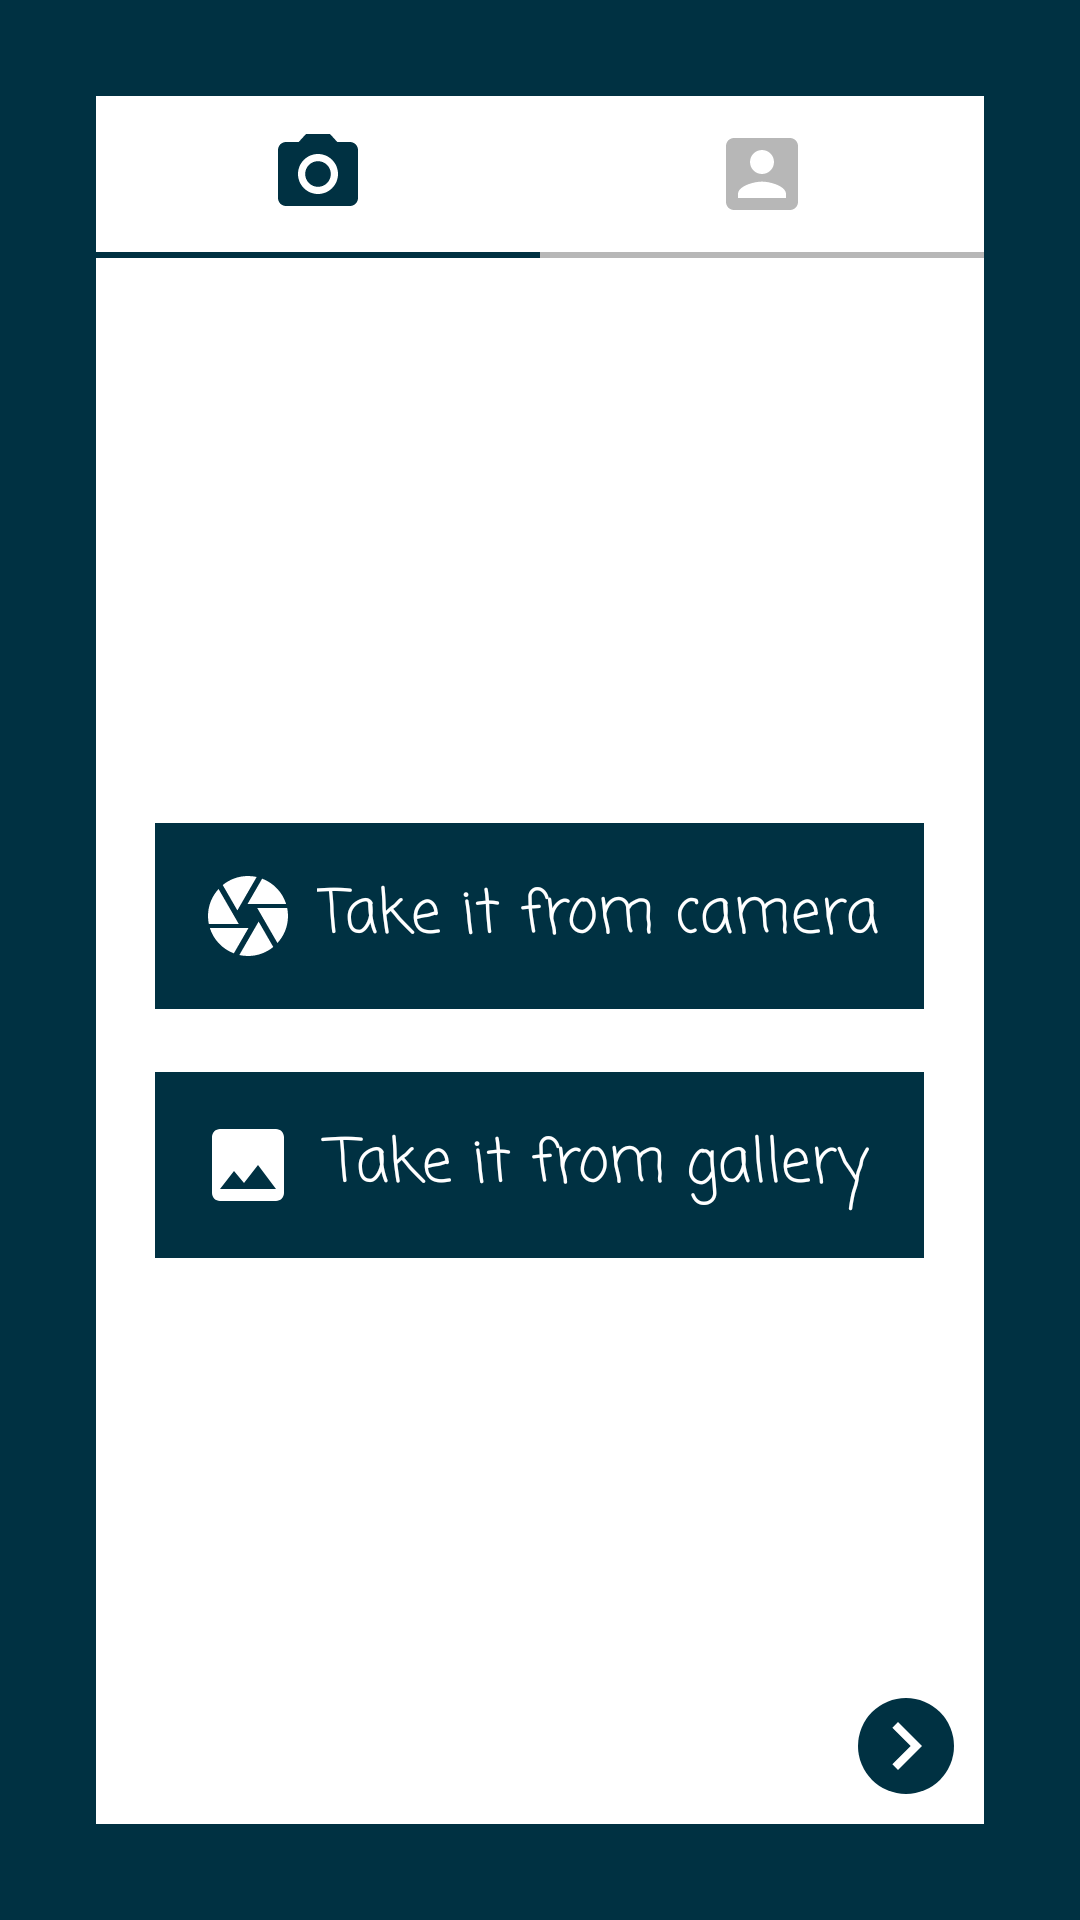

Named icons in this screenshot (1080x1920) and their centers, (x=x, y=y):
next: (x=906, y=1746)
